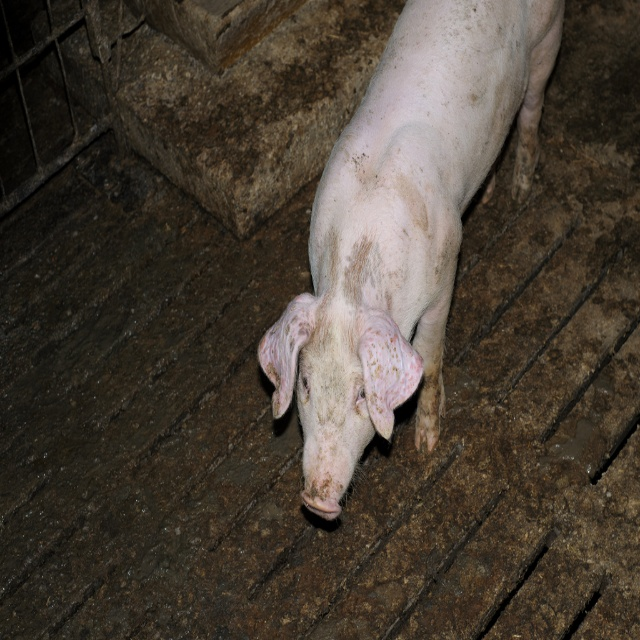Pig: (256, 0, 567, 522)
